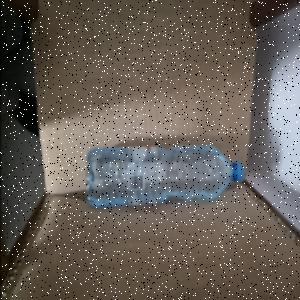Plastic-bottle: (84, 146, 245, 210)
